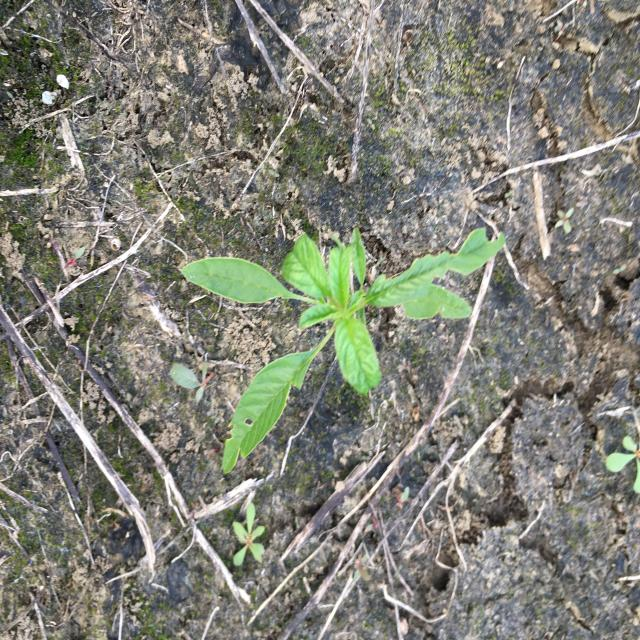Carpetweed: (227, 501, 268, 568)
Waterhemp: (179, 226, 507, 475)
